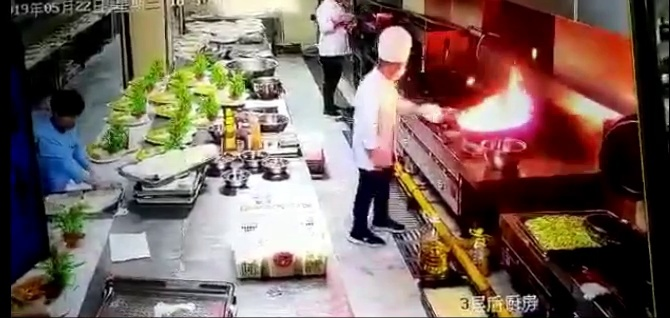fire: (460, 70, 533, 132)
